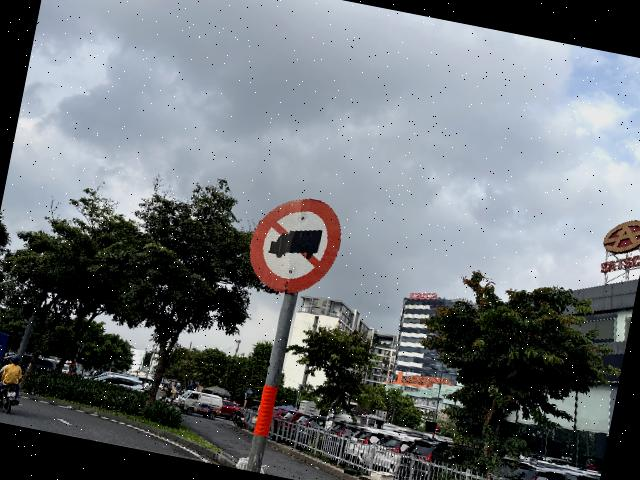cam-xe-tai: (242, 186, 350, 302)
